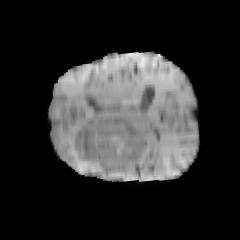glioma: (73, 116, 146, 174)
